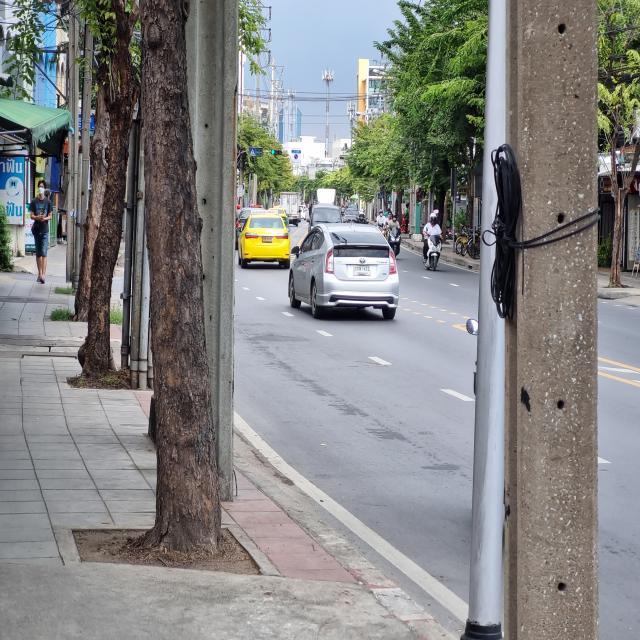license_plate: (353, 265, 371, 276), (262, 236, 272, 243)
